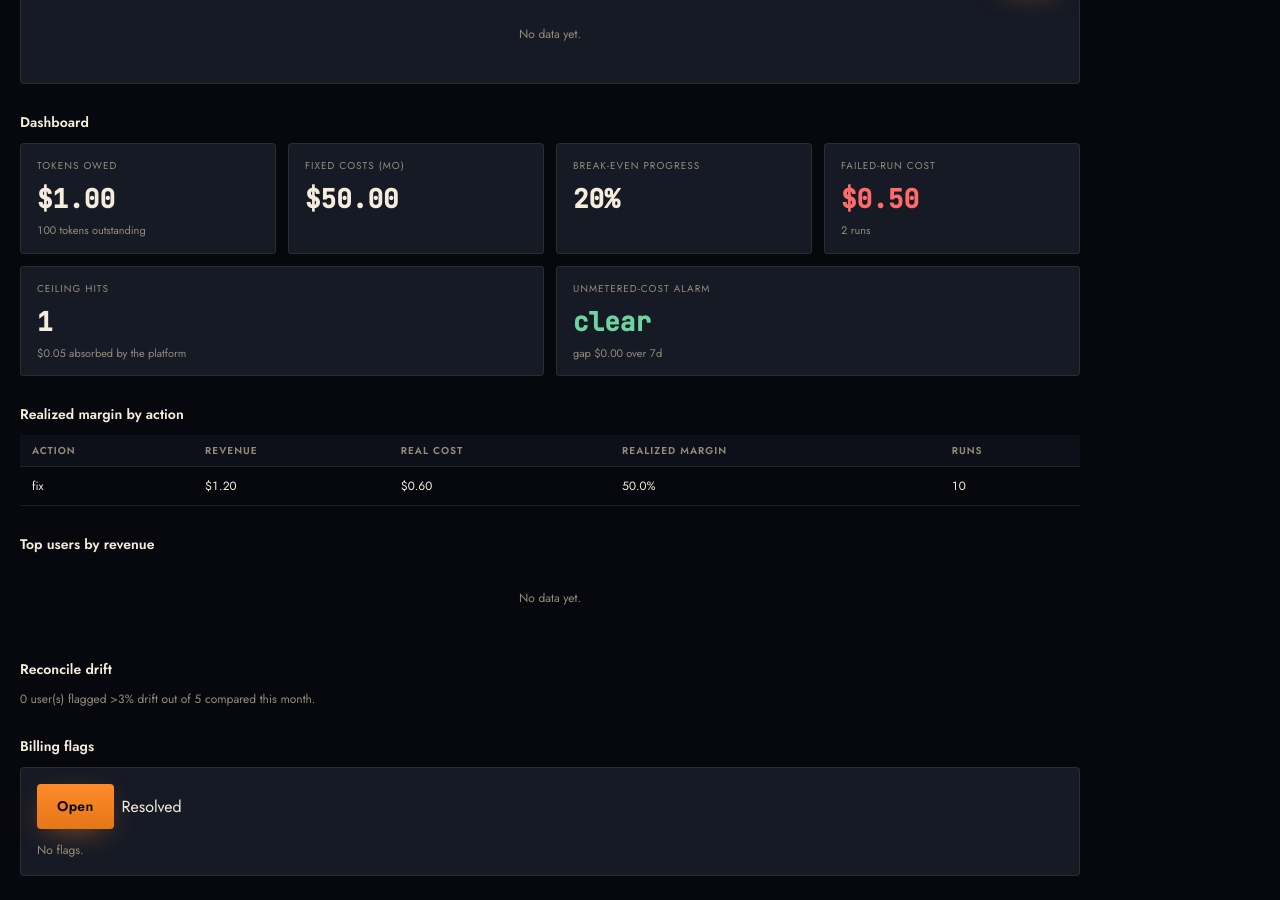
AdminPricingPanel › switching to the resolved tab fetches resolved=true flags
(page scrolled)
Check: the element with test id "billing-flags" is shown, box x1=20 y1=767 x2=1080 y2=876
Click the button with test id "flags-tab-resolved" at (152, 806), box x1=122 y1=784 x2=182 y2=829
(page scrolled)
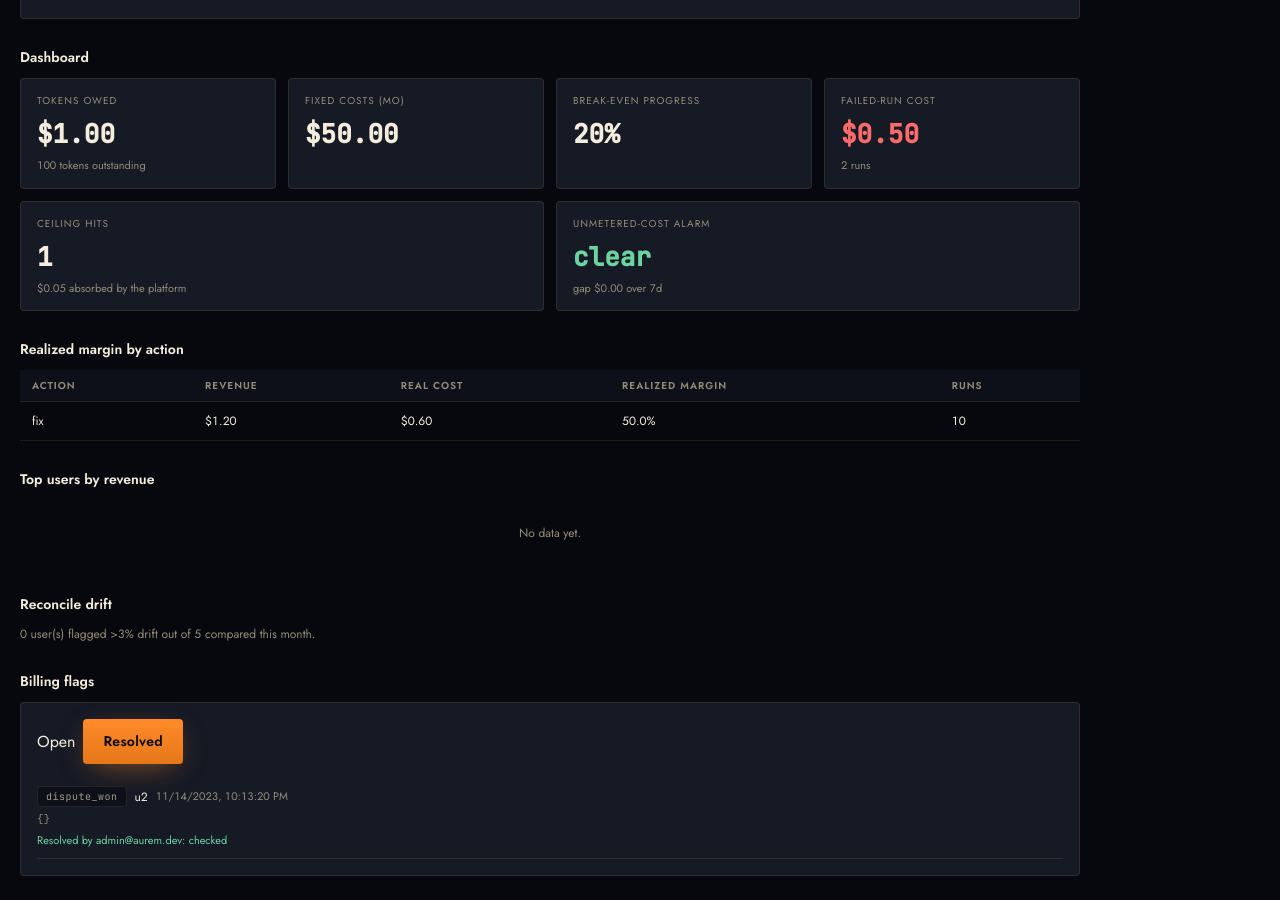
Check: the text "Resolved by admin@aurem.dev: checked" is shown, box x1=37 y1=832 x2=227 y2=848
